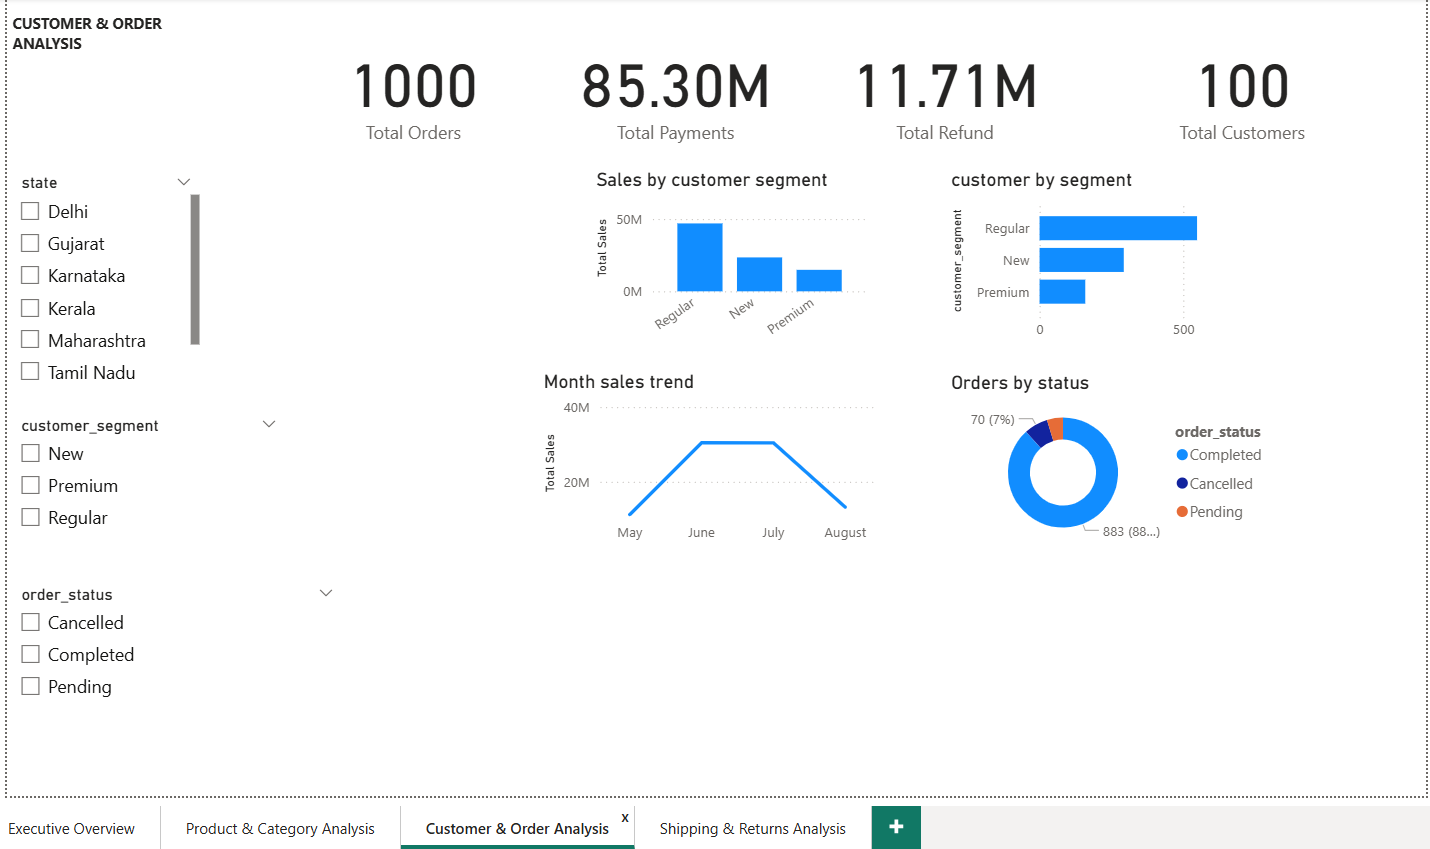

What the dashboard file says about the page in this screenshot:
{"tool":"powerbi","page":{"name":"Customer & Order Analysis","canvas":[1280,720],"ordinal":2},"visuals":[{"type":"card","fields":{"Values":["orders.Total Orders"]},"box":[239.5,0,255.4,165.9],"z":0},{"type":"card","fields":{"Values":["customers.Total Payments"]},"box":[479,0,248.2,165.9],"z":1},{"type":"card","fields":{"Values":["orders.Total Refund"]},"box":[707,0,278.5,165.9],"z":2},{"type":"card","fields":{"Values":["customers.Total Customers"]},"box":[981.1,0,266.9,165.9],"z":3},{"type":"clusteredColumnChart","title":"Sales by customer segment","fields":{"Category":["customers.customer_segment"],"Y":["orders.Total Sales"]},"box":[526.1,153.4,255.3,165.4],"z":4},{"type":"donutChart","title":"Orders by status","fields":{"Category":["orders.order_status"],"Y":["orders.Total Orders"]},"box":[846.1,336.8,306.8,163],"z":5},{"type":"barChart","title":"customer by segment","fields":{"Category":["customers.customer_segment"],"Y":["orders.Total Orders"]},"box":[846.1,153.4,255.3,164.2],"z":6},{"type":"lineChart","title":"Month sales trend","fields":{"Category":["orders.order_datetime.Variation.Date Hierarchy.Month"],"Y":["orders.Total Sales"]},"box":[479.4,335.6,308,164.2],"z":7},{"type":"slicer","fields":{"Values":["customers.customer_segment"]},"box":[0,371.5,255.3,164.2],"z":8},{"type":"slicer","fields":{"Values":["orders.order_status"]},"box":[0,523.7,306.8,164.2],"z":9},{"type":"slicer","fields":{"Values":["customers.state"]},"box":[0,153.4,178.6,206.1],"z":10},{"type":"textbox","box":[0,8.7,199.1,131.3],"z":11}]}

Visuals, with their boxes on the page's 1280x720 design canvas (x1, y1, x2, y2). These are canvas units, not pixel positions in the 1430x849 screenshot, which may show the page scaled, cropped or inside an application window:
card - orders.Total Orders: bbox=(240, 0, 495, 166)
card - customers.Total Payments: bbox=(479, 0, 727, 166)
card - orders.Total Refund: bbox=(707, 0, 986, 166)
card - customers.Total Customers: bbox=(981, 0, 1248, 166)
"Sales by customer segment" clusteredColumnChart: bbox=(526, 153, 781, 319)
"Orders by status" donutChart: bbox=(846, 337, 1153, 500)
"customer by segment" barChart: bbox=(846, 153, 1101, 318)
"Month sales trend" lineChart: bbox=(479, 336, 787, 500)
slicer - customers.customer_segment: bbox=(0, 372, 255, 536)
slicer - orders.order_status: bbox=(0, 524, 307, 688)
slicer - customers.state: bbox=(0, 153, 179, 360)
textbox: bbox=(0, 9, 199, 140)
